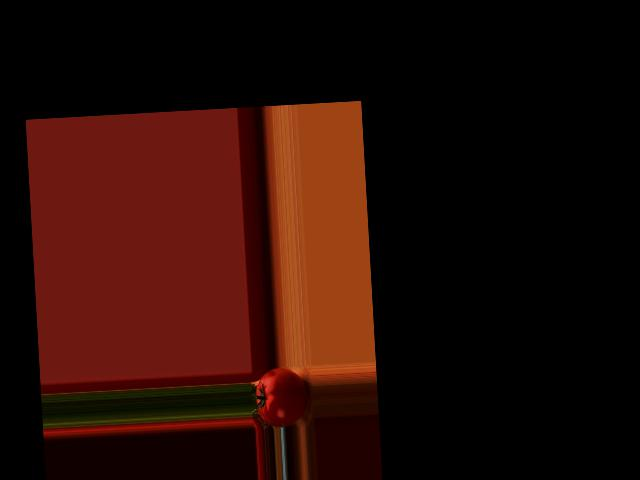tomato: (254, 366, 308, 428)
